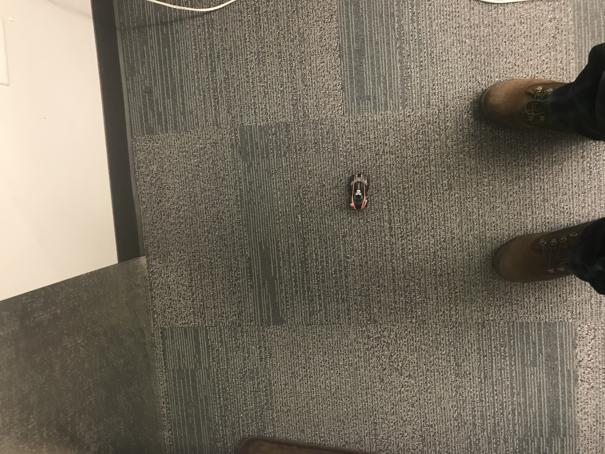Skull: (348, 172, 371, 212)
